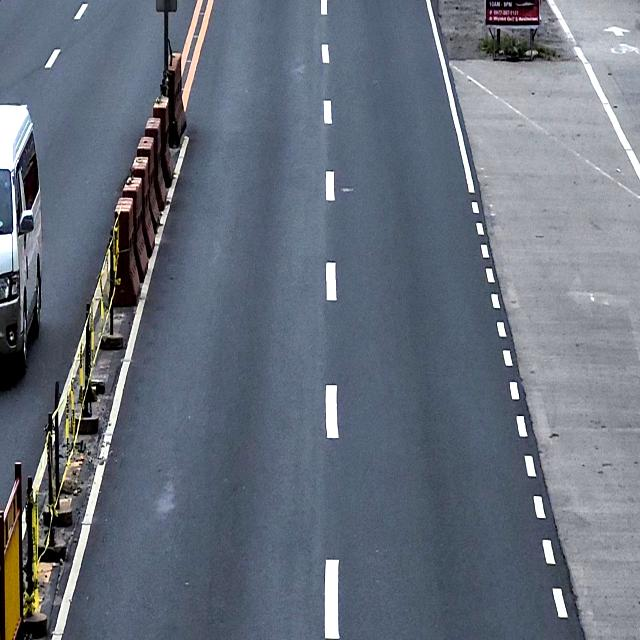License-Plate: (0, 102, 43, 378)
